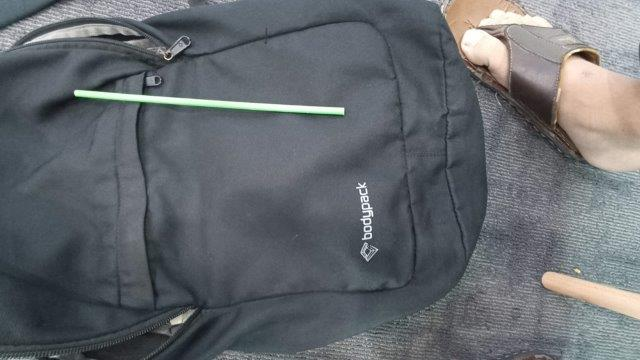sedotan: (75, 89, 345, 115)
